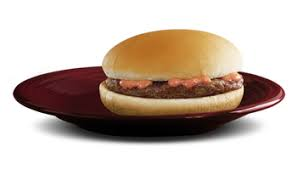hamburger: (99, 28, 244, 116)
